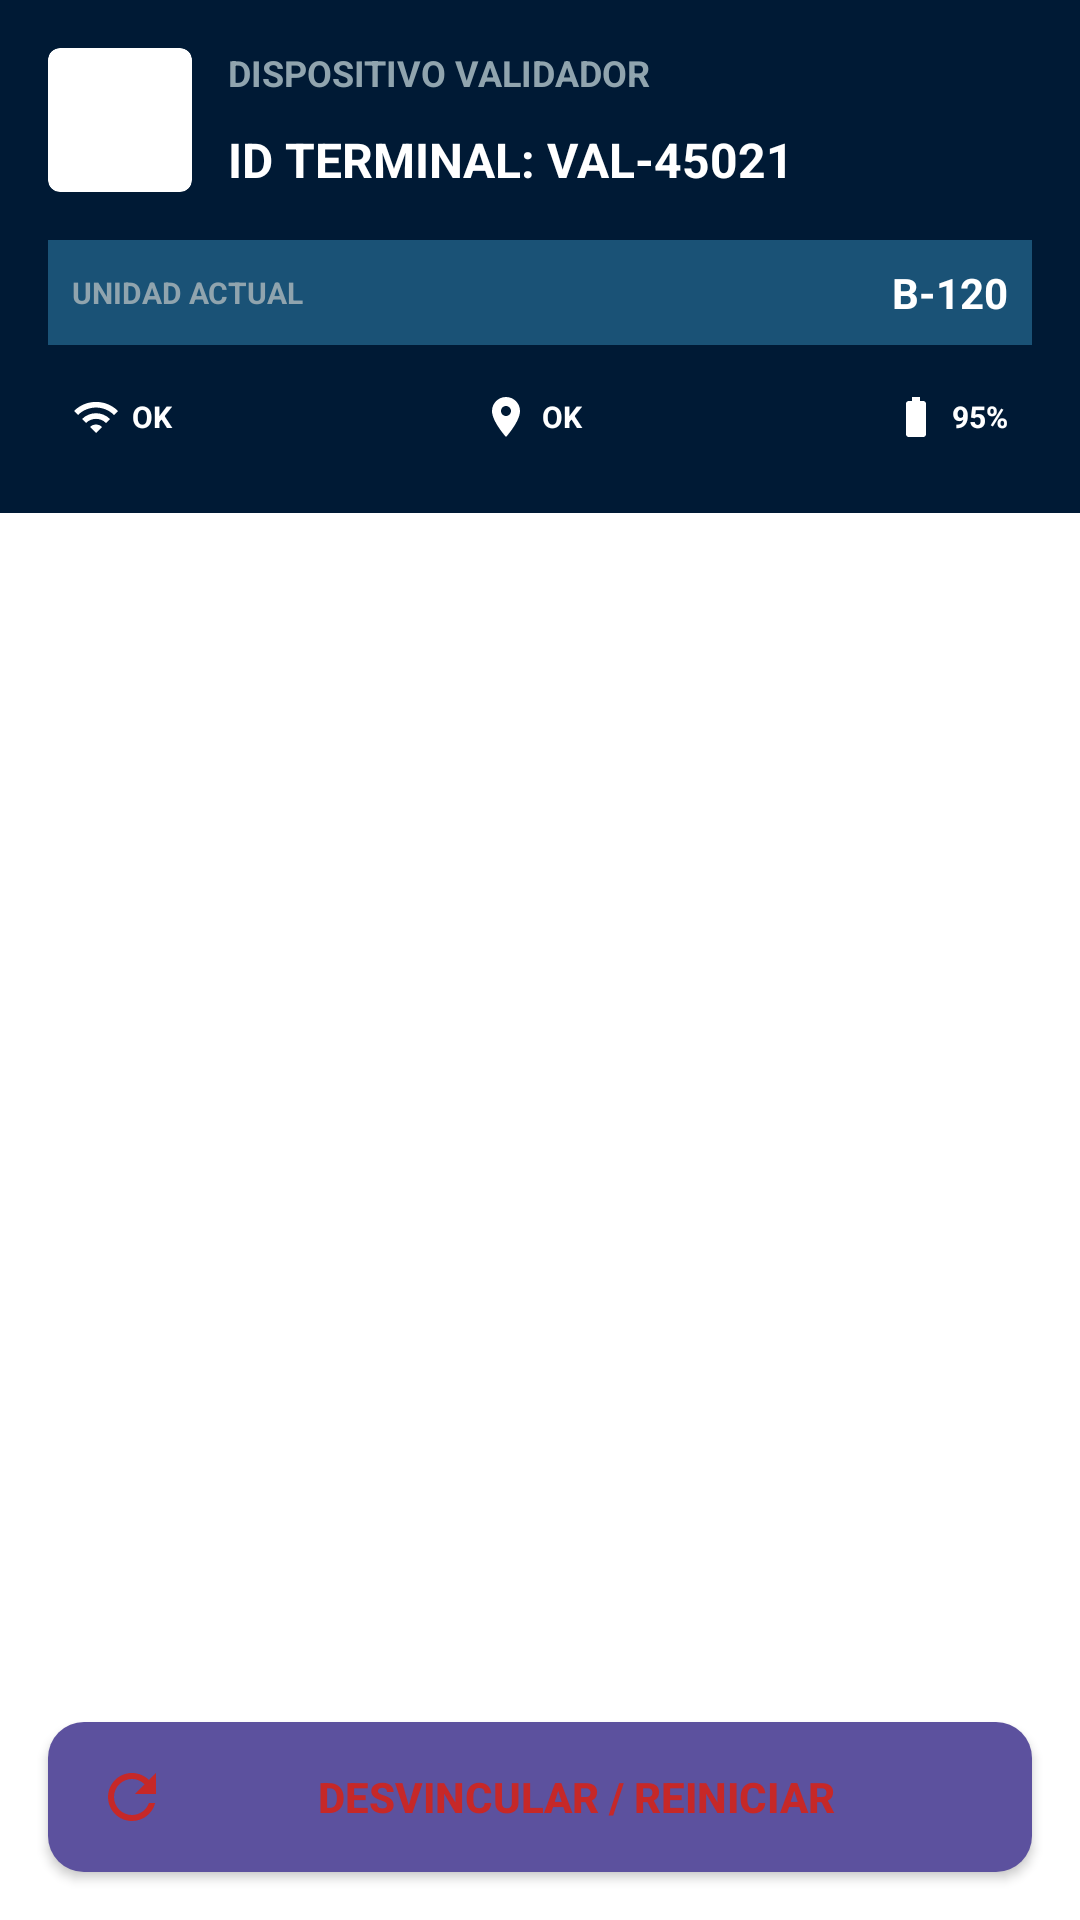

Where to tap for icons on this 1080w x 1920h app screen, as (x,y):
Batería: (916,417)
GPS: (506,417)
Wifi: (96,417)
